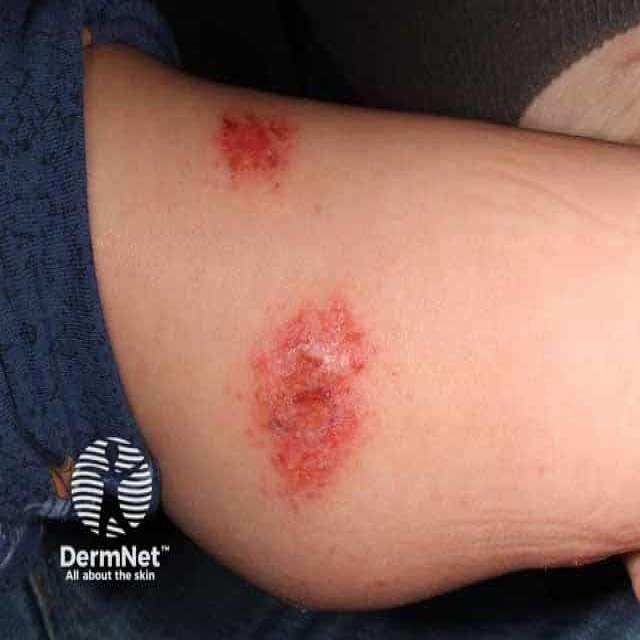Eczema: (246, 284, 378, 496), (208, 99, 296, 184)
